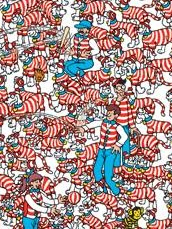waldo: (109, 77, 125, 96)
